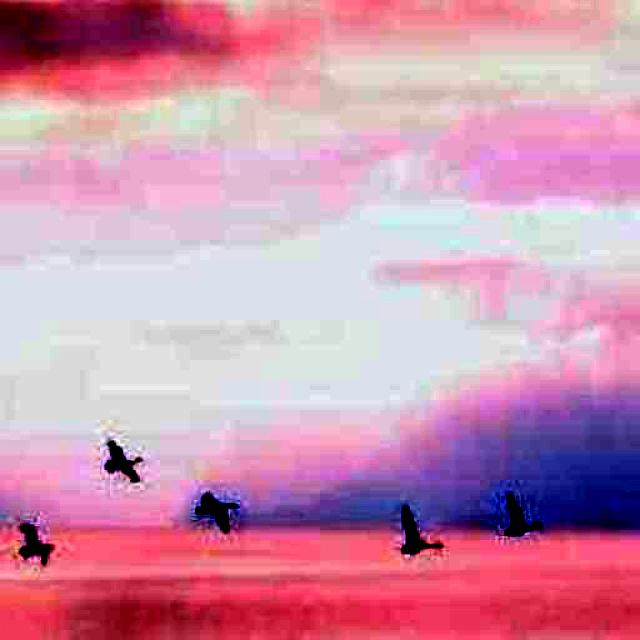airplane: (395, 502, 445, 565), (500, 492, 552, 549), (101, 438, 151, 494), (191, 489, 242, 539), (18, 520, 59, 576)
